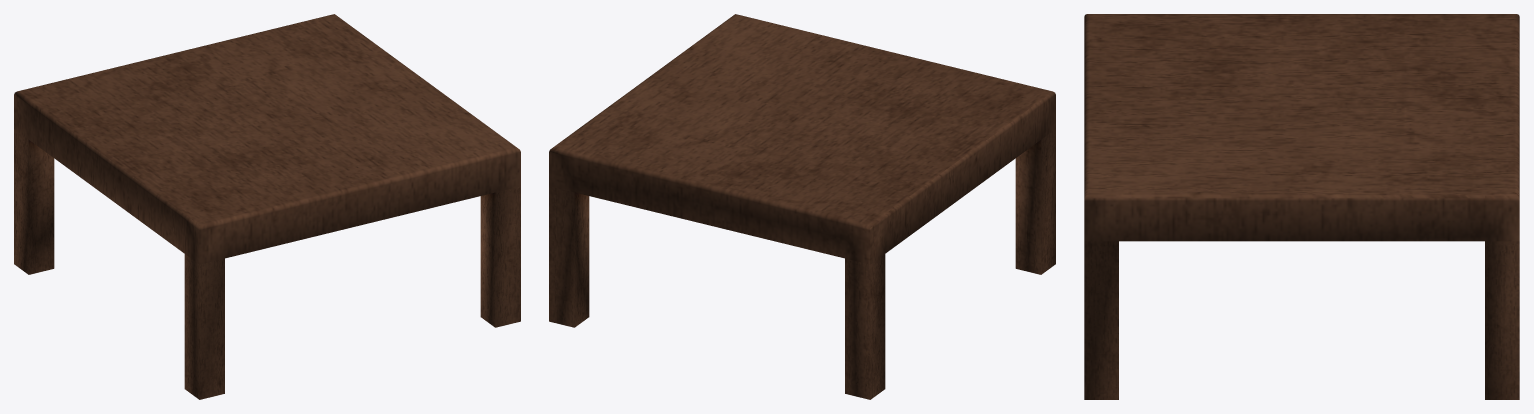
Rendered from table3.fbx.
The picture shows the model from 3 angles, left to right: view 1: azimuth 30°, elevation 25°; view 2: azimuth 150°, elevation 25°; view 3: azimuth 270°, elevation 25°; orthographic projection. The views are drawn at different scales.
Visible parts, largest first — view 1: pCube9; view 2: pCube9; view 3: pCube9.
Part boxes in pixels (x1=…): pCube9: x1=14, y1=14, x2=520, y2=399; pCube9: x1=549, y1=14, x2=1055, y2=399; pCube9: x1=1084, y1=14, x2=1519, y2=399.
Bounding box in the file's own units: 65.33 × 33.72 × 65.33.
Materials: 1 (1 with a texture image).
